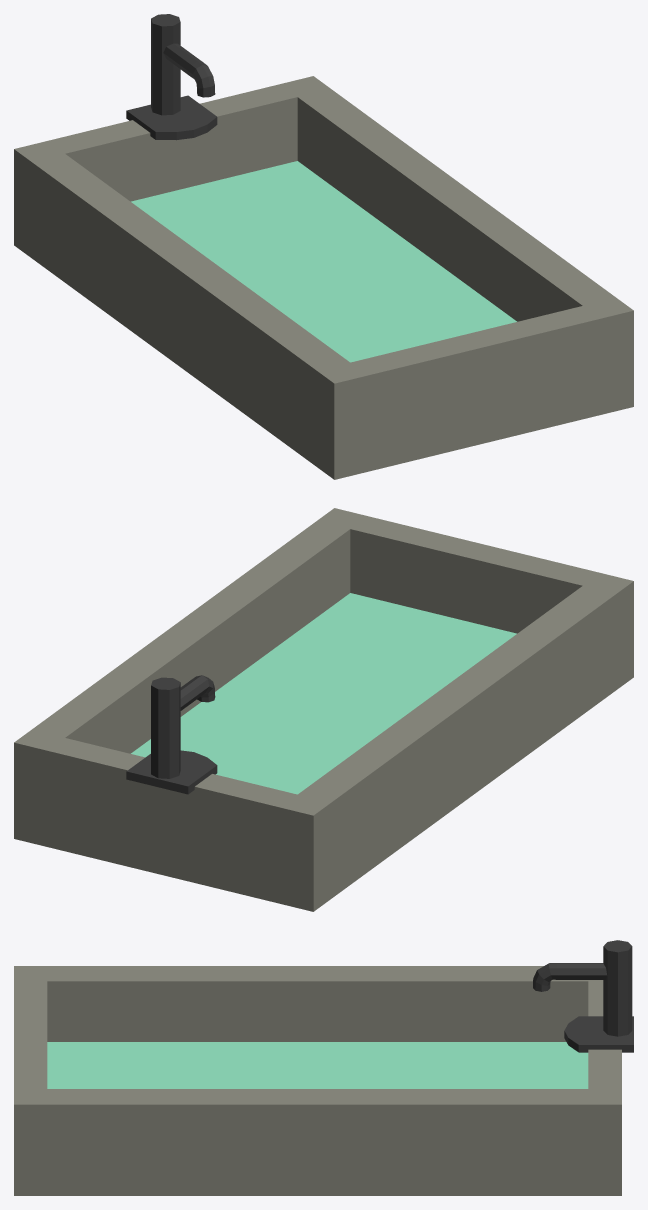
File: Bath.fbx
The picture shows the model from 3 angles, top to bottom: view 1: azimuth 30°, elevation 25°; view 2: azimuth 150°, elevation 25°; view 3: azimuth 270°, elevation 25°; orthographic projection. The views are drawn at different scales.
Parts seen in each view (by area): view 1: Bath; view 2: Bath; view 3: Bath.
Boxes of the visible parts, left/top/right/bottom form: Bath: left=14, top=14, right=633, bottom=479; Bath: left=14, top=508, right=633, bottom=911; Bath: left=14, top=940, right=633, bottom=1195.
Size of the model in its own units: 37.52 by 22.76 by 70.93.
Materials: 1 (1 with a texture image).
